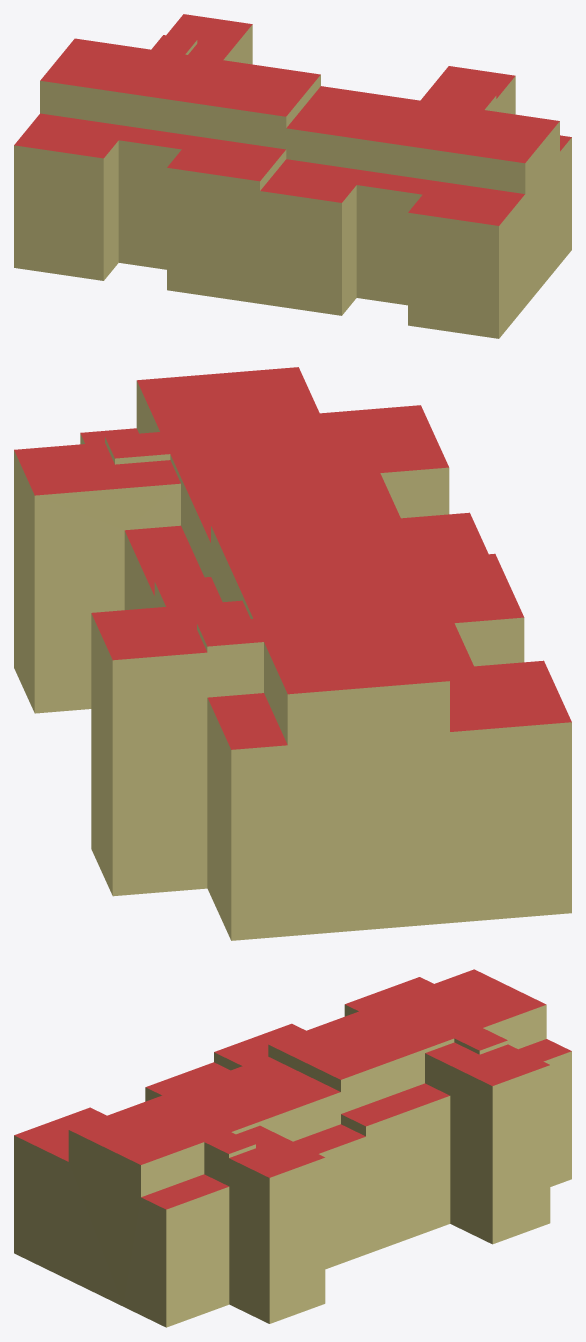
3 renders of one model, top to bottom at view 1: azimuth 30°, elevation 25°; view 2: azimuth 150°, elevation 25°; view 3: azimuth 270°, elevation 25°, orthographic. The views are drawn at different scales.
Size of the model in its own units: 39.39 by 41.7 by 13.38.
